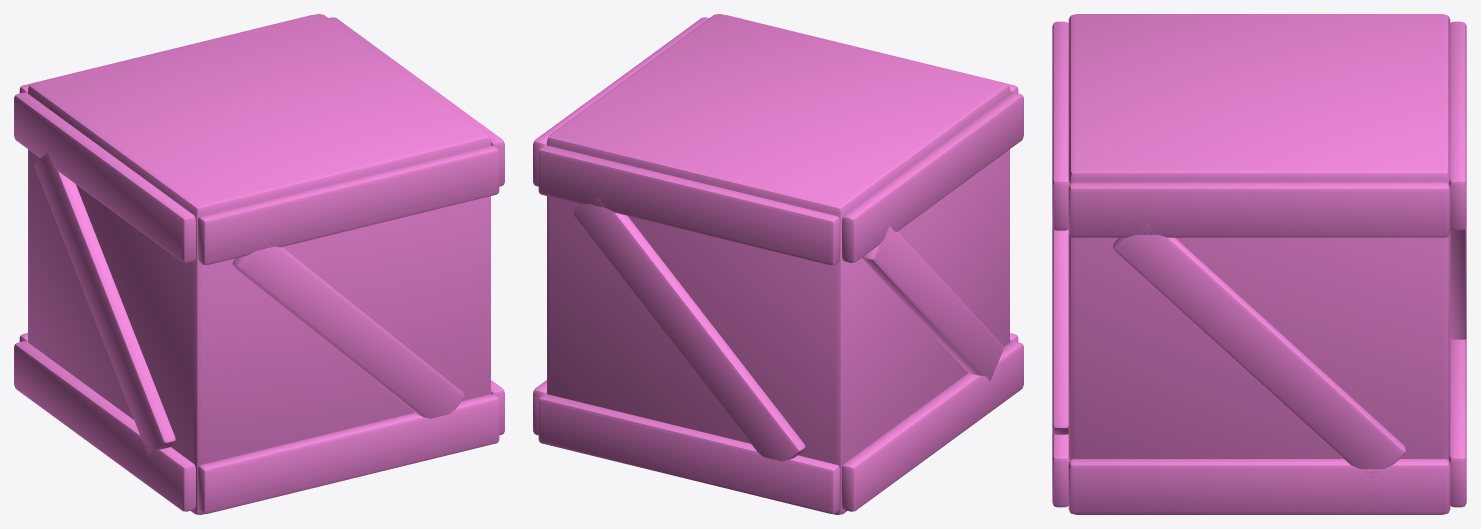
Rendered from Docks_Crate.fbx.
3 views of the same model, side by side, from view 1: azimuth 30°, elevation 25°; view 2: azimuth 150°, elevation 25°; view 3: azimuth 270°, elevation 25° (orthographic). The views are drawn at different scales.
Visible parts, largest first — view 1: Crate; view 2: Crate; view 3: Crate.
Boxes of the visible parts, x1,y1,x2,y2 form: Crate: [14, 14, 504, 514]; Crate: [533, 14, 1023, 514]; Crate: [1052, 14, 1466, 514].
Bounding box in the file's own units: 3.26 × 3 × 3.26.
Materials: 1 (1 with a texture image).
